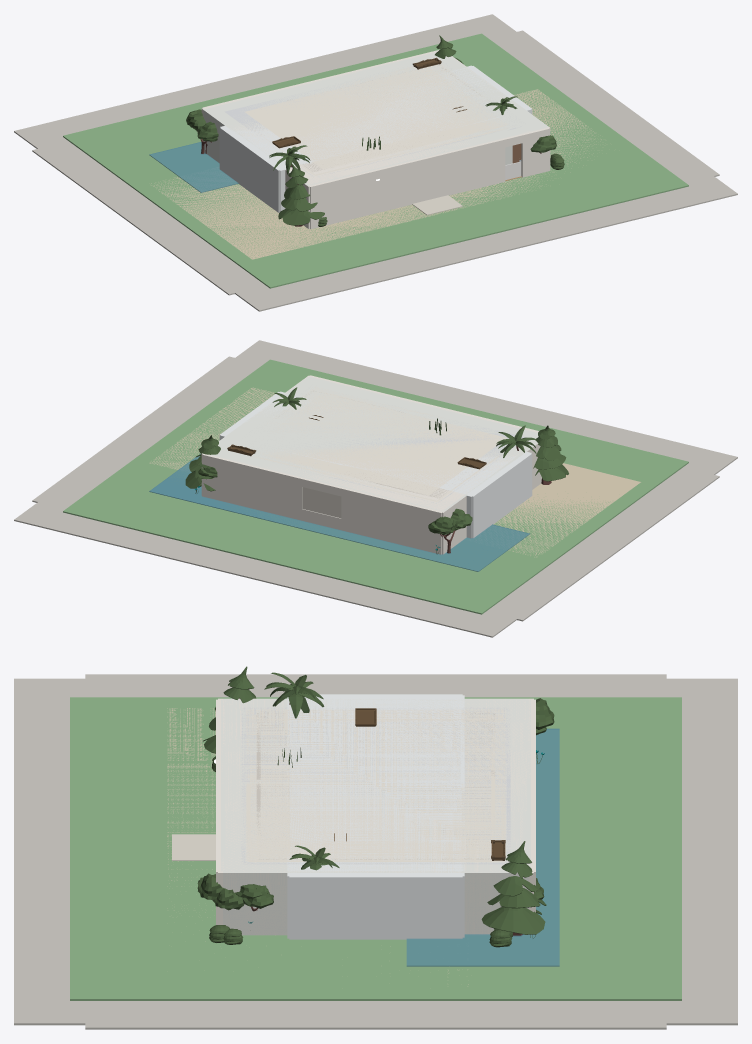
The model's file is scenes.glb.
The picture shows the model from 3 angles, top to bottom: view 1: azimuth 30°, elevation 25°; view 2: azimuth 150°, elevation 25°; view 3: azimuth 270°, elevation 25°; orthographic projection. The views are drawn at different scales.
Visible parts, largest first — view 1: Ground.002, Ground.006, Ground.001, Ceil.006, Ground.009, Ceil.001, Ground, Wall_south.005, Ground.004, Ceil.003, Ceil.005, Ground.003 (+10 smaller); view 2: Ground.002, Ground.006, Ground.001, Ceil.001, Ceil.006, Ground, Ground.004, Ground.009, Water, Wall_north.006, Wall_north_end.005, Ceil.005 (+12 smaller); view 3: Ground.002, Ground.001, Ceil.003, Ceil, Ground, Ceil.001, Ground.004, Ground.006, Ground.005, Ceil.005, Wall_east.003, Ground.003 (+14 smaller).
Part boxes in pixels (left/top/right/bottom): Ground.002: left=63, top=33, right=688, bottom=288; Ground.006: left=14, top=14, right=737, bottom=311; Ground.001: left=15, top=15, right=735, bottom=310; Ceil.006: left=245, top=67, right=506, bottom=169; Ground.009: left=151, top=89, right=601, bottom=259; Ceil.001: left=206, top=53, right=546, bottom=183; Ground: left=129, top=25, right=710, bottom=298; Wall_south.005: left=309, top=139, right=505, bottom=229; Ground.004: left=32, top=30, right=719, bottom=295; Ceil.003: left=222, top=66, right=528, bottom=169; Ceil.005: left=204, top=51, right=547, bottom=185; Ground.003: left=35, top=24, right=614, bottom=296; Ground.002: left=63, top=359, right=688, bottom=614; Ground.006: left=14, top=340, right=737, bottom=637; Ground.001: left=16, top=341, right=724, bottom=636; Ceil.001: left=215, top=377, right=538, bottom=510; Ceil.006: left=259, top=393, right=506, bottom=495; Ground: left=39, top=352, right=630, bottom=624; Ground.004: left=32, top=356, right=719, bottom=621; Ground.009: left=149, top=387, right=640, bottom=557; Water: left=149, top=453, right=529, bottom=571; Wall_north.006: left=341, top=487, right=442, bottom=554; Wall_north_end.005: left=202, top=454, right=303, bottom=520; Ceil.005: left=208, top=376, right=538, bottom=511; Ground.002: left=70, top=697, right=681, bottom=1000; Ground.001: left=19, top=678, right=732, bottom=1025; Ceil.003: left=290, top=695, right=461, bottom=875; Ceil: left=249, top=711, right=502, bottom=860; Ground: left=44, top=689, right=707, bottom=1012; Ceil.001: left=224, top=700, right=527, bottom=871; Ground.004: left=85, top=674, right=666, bottom=1029; Ground.006: left=14, top=678, right=737, bottom=1025; Ground.005: left=54, top=691, right=697, bottom=1010; Ceil.005: left=219, top=700, right=532, bottom=871; Wall_east.003: left=289, top=875, right=462, bottom=939; Ground.003: left=39, top=687, right=712, bottom=1014.
Bounding box in the file's own units: 32.8 × 4.24 × 28.4.
